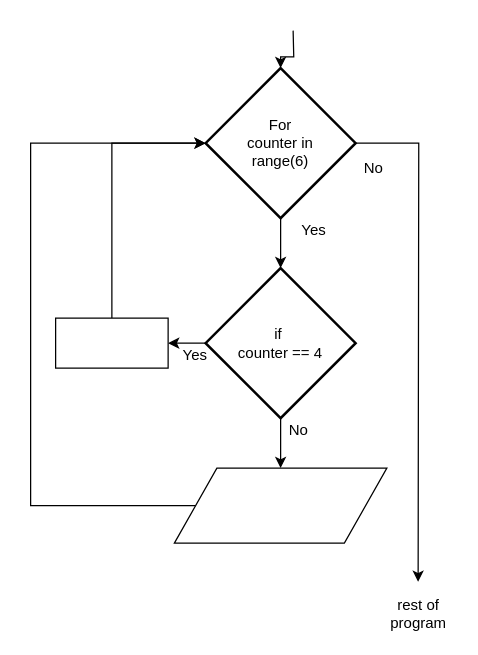
Image size: 478x655. Some labels were removed from this diagram. Each missing label, with the centre of its shape:
continue: the point at 111,342
statements: the point at 280,505
